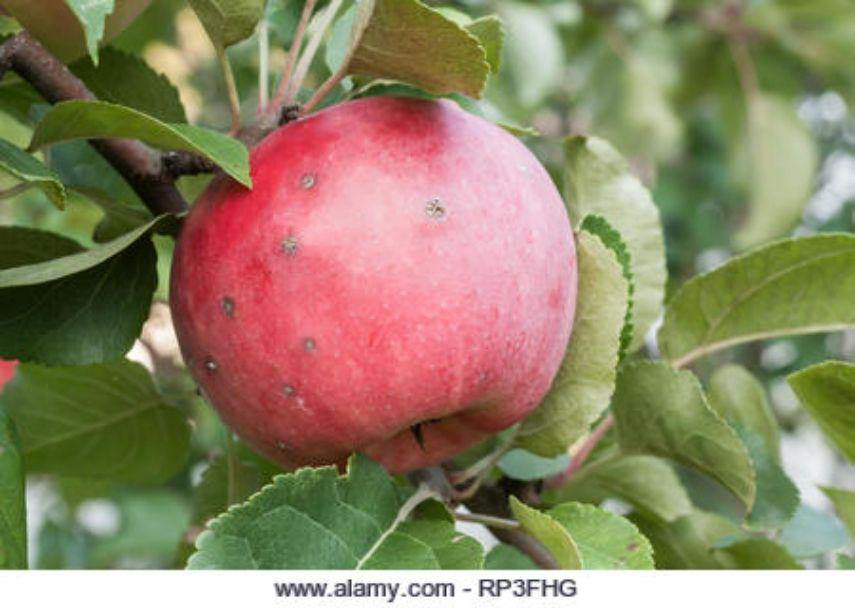SCAB: (122, 64, 609, 468)
